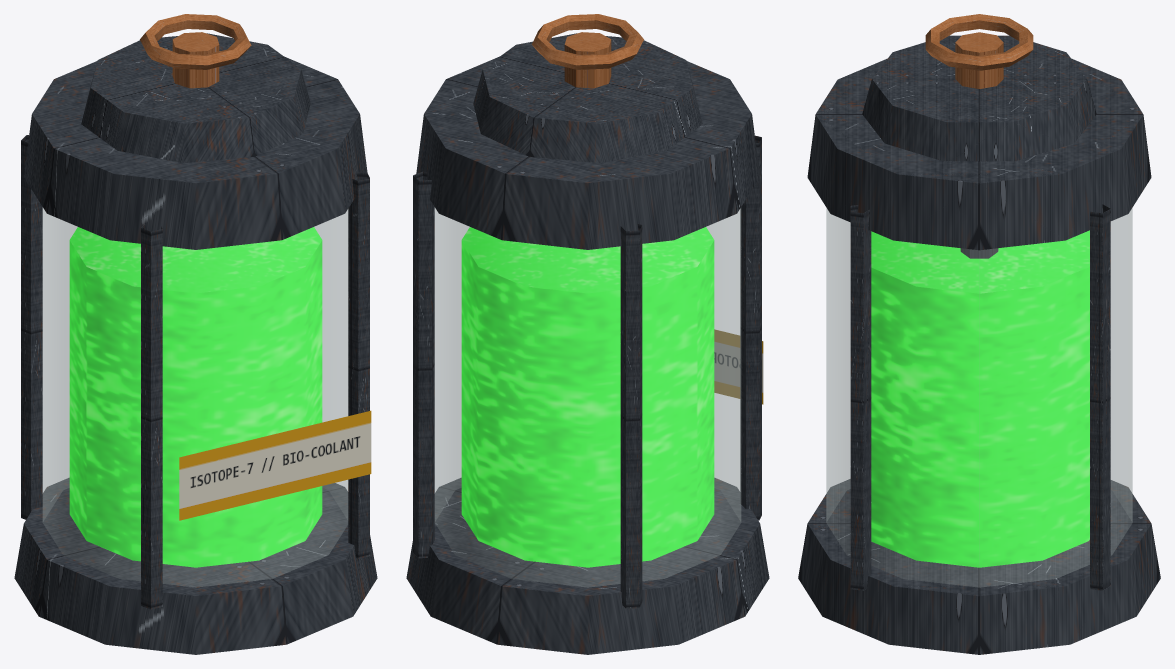
Rendered from biohazard_specimen_jar_02.glb.
3 renders of one model, left to right at view 1: azimuth 30°, elevation 25°; view 2: azimuth 150°, elevation 25°; view 3: azimuth 270°, elevation 25°, orthographic.
Visible parts, largest first — view 1: frasco_reactor; view 2: frasco_reactor; view 3: frasco_reactor.
Boxes of the visible parts, x1,y1,x2,y2 form: frasco_reactor: (14, 14, 377, 654); frasco_reactor: (406, 14, 769, 654); frasco_reactor: (798, 14, 1160, 654).
Size of the model in its own units: 0.27 by 0.4457 by 0.27.
5 materials, 4 textured.
